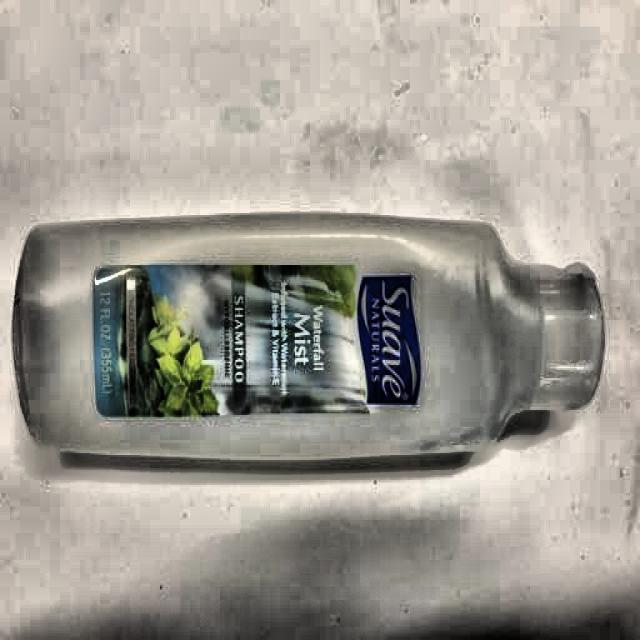plastic: (12, 216, 608, 465)
